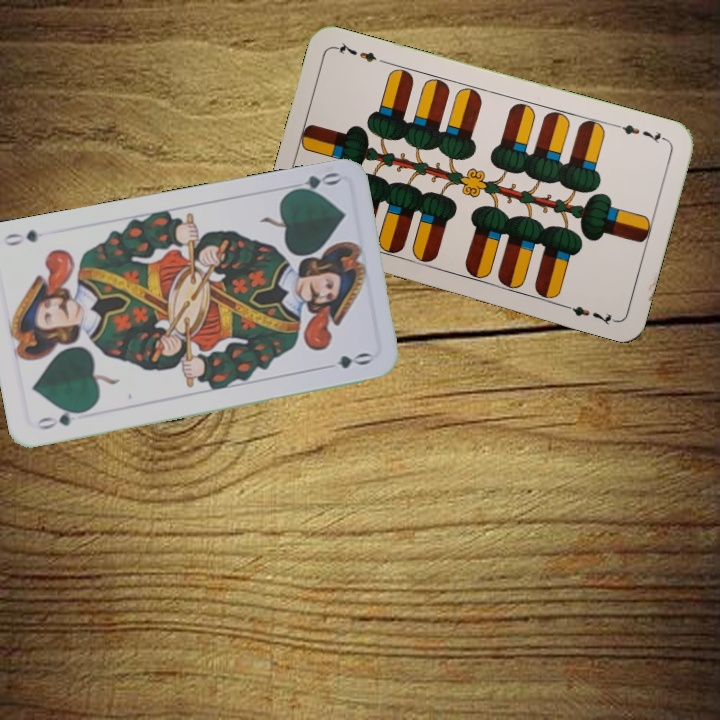E7: (612, 120, 670, 147)
GO: (284, 168, 342, 197), (33, 405, 90, 432)
